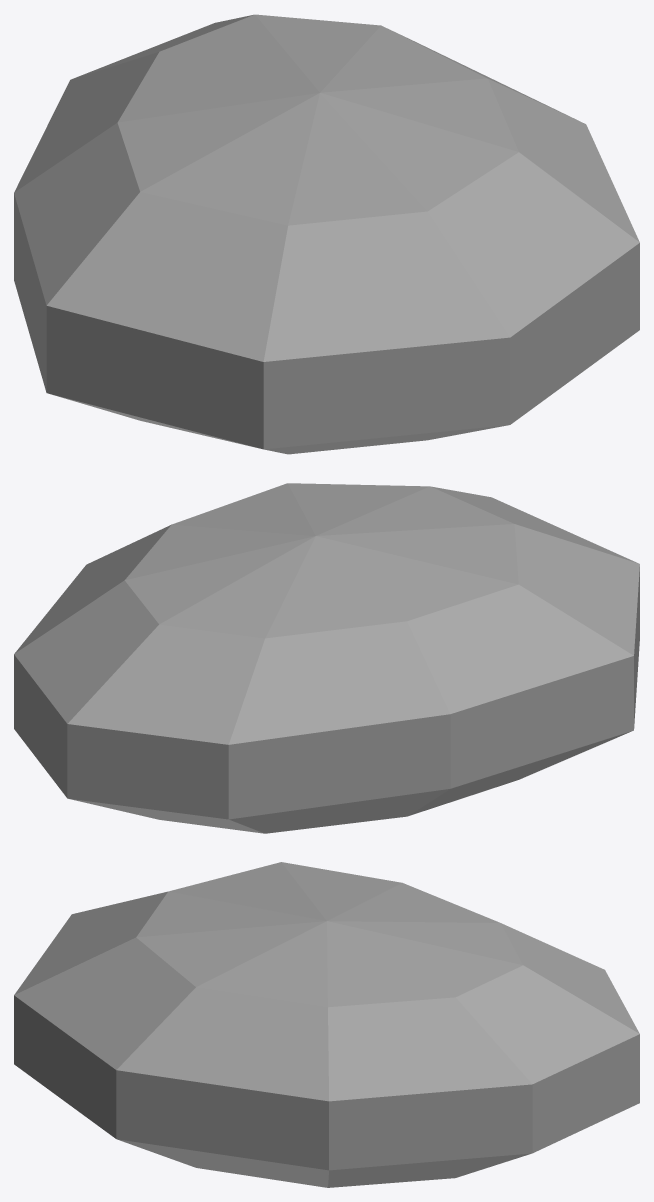
The model's file is rock1.fbx.
3 renders of one model, top to bottom at view 1: azimuth 30°, elevation 25°; view 2: azimuth 150°, elevation 25°; view 3: azimuth 270°, elevation 25°, orthographic. The views are drawn at different scales.
Parts seen in each view (by area): view 1: rock1; view 2: rock1; view 3: rock1.
Boxes of the visible parts, x1,y1,x2,y2 form: rock1: [14, 14, 639, 454]; rock1: [14, 483, 639, 833]; rock1: [14, 862, 639, 1187].
Bounding box in the file's own units: 1.03 × 0.4716 × 1.2.
